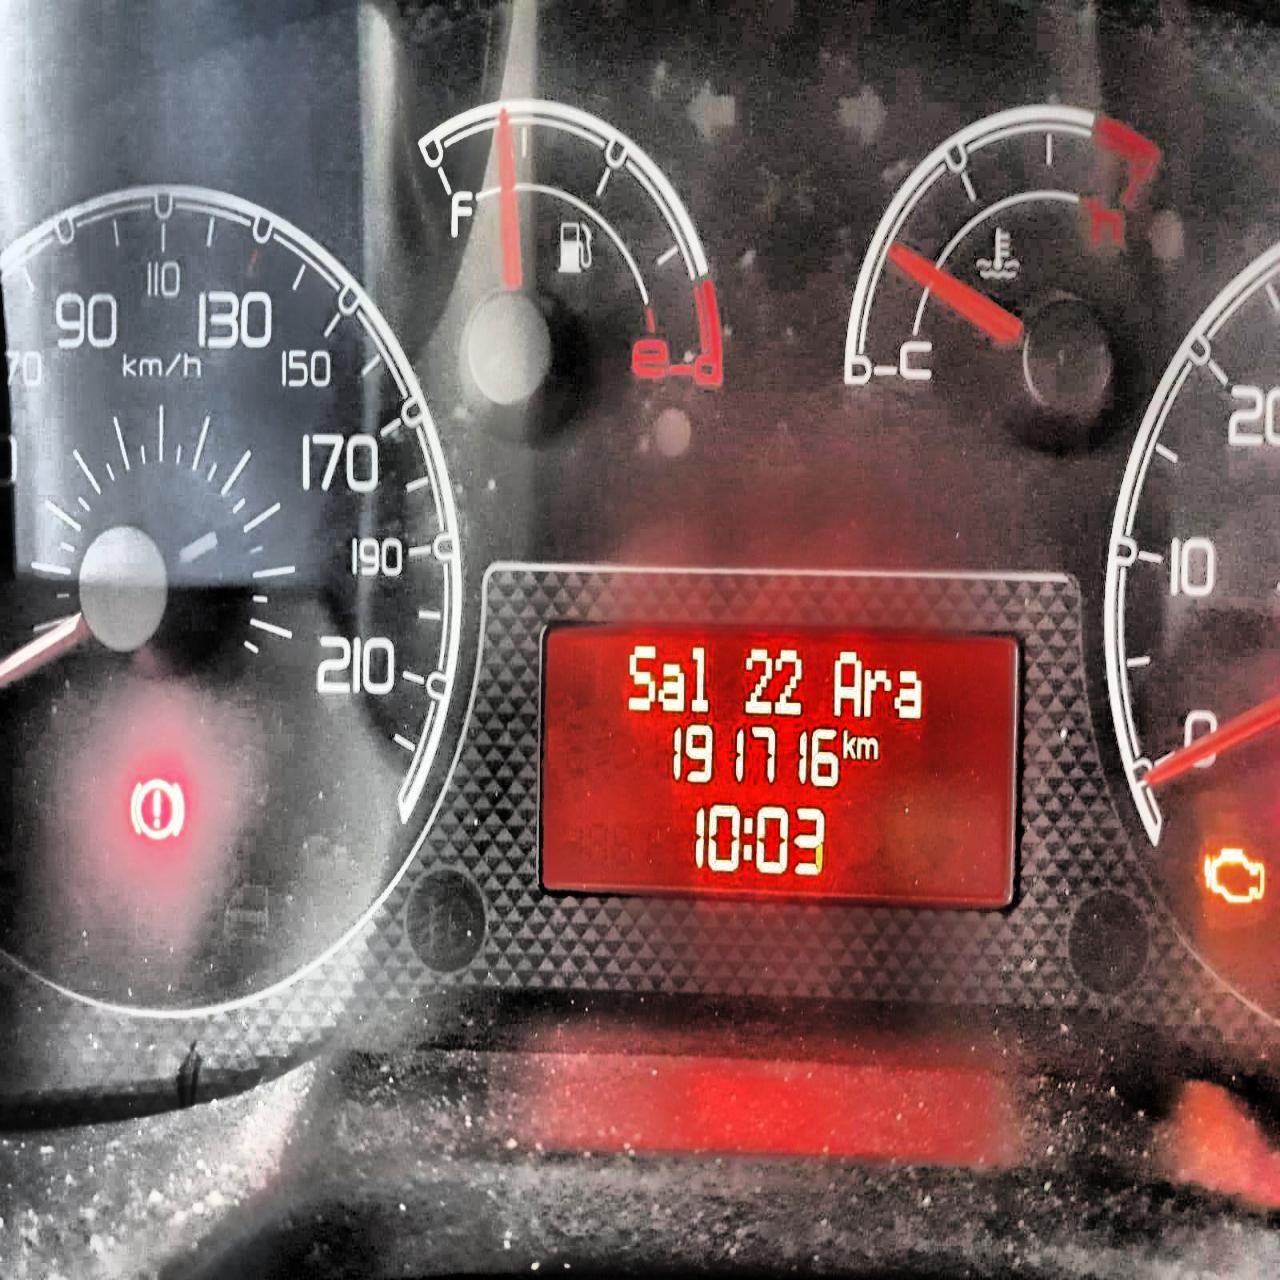0: (756, 803, 787, 878), (708, 801, 738, 873)
1: (690, 803, 703, 871), (669, 719, 683, 781), (797, 726, 809, 789), (735, 720, 745, 788)
2: (744, 644, 772, 719), (775, 645, 804, 716)
3: (791, 802, 828, 877)
6: (810, 724, 838, 789)
7: (749, 721, 778, 782)
9: (685, 722, 716, 785)
X: (832, 641, 862, 721), (627, 639, 655, 714), (688, 636, 712, 716), (656, 655, 685, 714), (864, 662, 892, 717), (896, 666, 922, 722), (857, 731, 881, 763), (742, 810, 754, 865), (840, 724, 856, 763)
odometer: (526, 601, 1036, 921)
